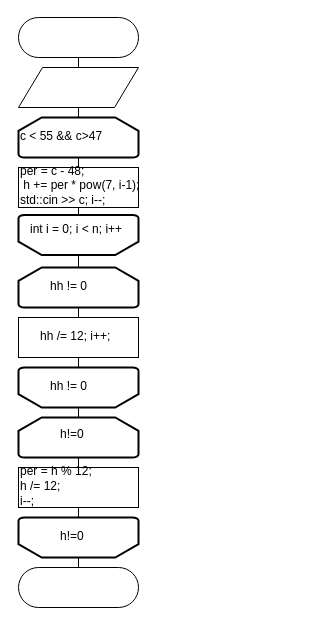
Image size: 335x625. Some labels were removed from this diagram. Each missing label, with the centre of its shape:
"cin >> c;" goes at [78,87].
"конец" goes at [78,587].
"начало" goes at [78,37].
